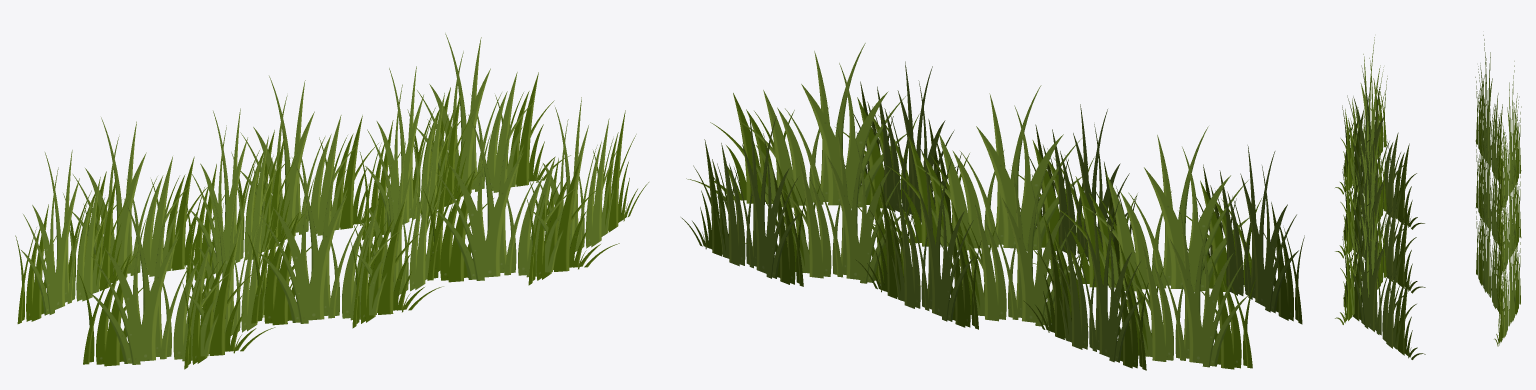
File: Bush.fbx
3 renders of one model, left to right at view 1: azimuth 30°, elevation 25°; view 2: azimuth 150°, elevation 25°; view 3: azimuth 270°, elevation 25°, orthographic. The views are drawn at different scales.
Visible parts, largest first — view 1: Bush; view 2: Bush; view 3: Bush.
Boxes of the visible parts, x1=… form: Bush: x1=15, y1=33, x2=648, y2=369; Bush: x1=681, y1=43, x2=1304, y2=370; Bush: x1=1335, y1=35, x2=1521, y2=359.
Bounding box in the file's own units: 2.97 × 0.803 × 1.03.
